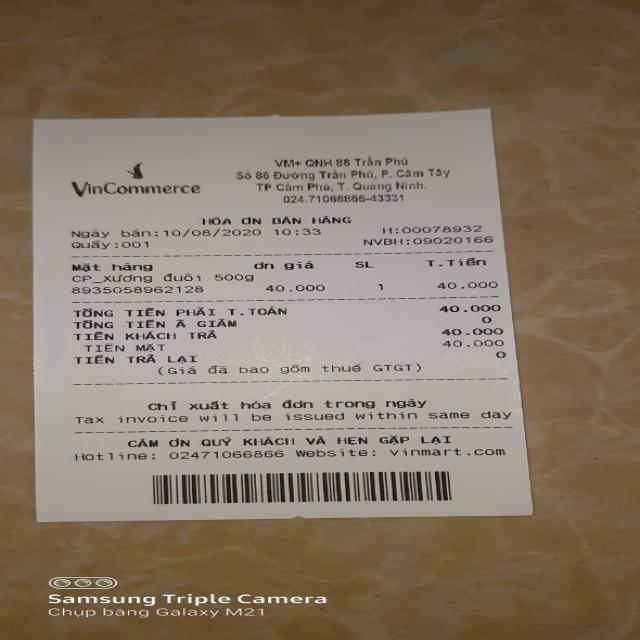Date: (164, 227, 265, 239)
Store_Name: (59, 178, 207, 199)
amount_number: (435, 303, 504, 314)
label_total: (68, 304, 302, 316)
